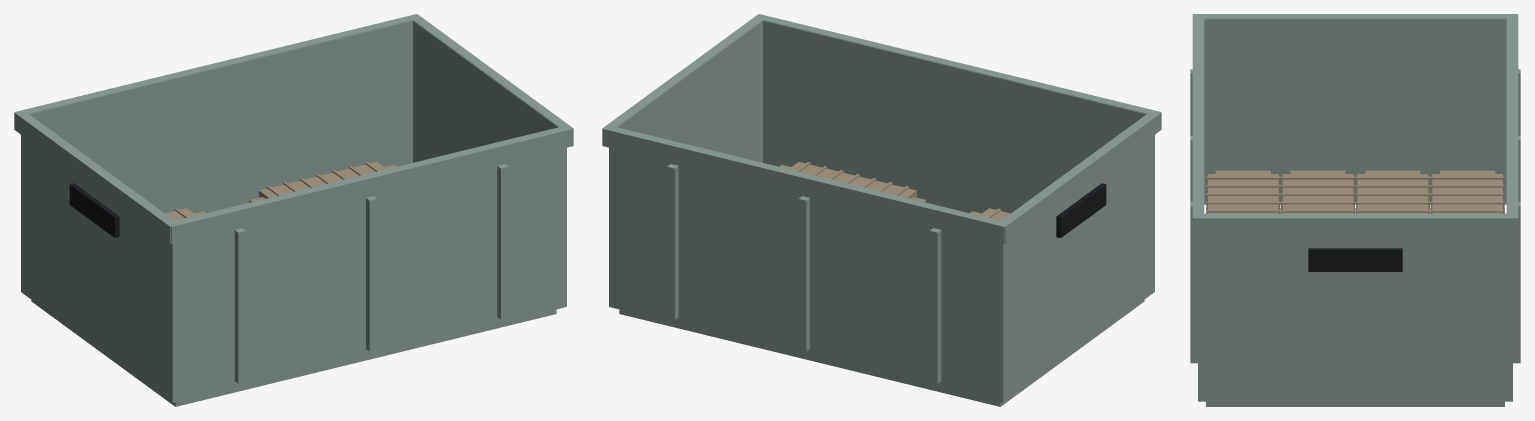
Rendered from tote_brazed.glb.
3 views of the same model, side by side, from view 1: azimuth 30°, elevation 25°; view 2: azimuth 150°, elevation 25°; view 3: azimuth 270°, elevation 25° (orthographic). The views are drawn at different scales.
Visible parts, largest first — view 1: Tote_600x400_tote_sage, Brazed_Core_brazed_stainless, Tote_600x400_black_paint; view 2: Tote_600x400_tote_sage, Brazed_Core_brazed_stainless, Tote_600x400_black_paint; view 3: Tote_600x400_tote_sage, Brazed_Core_brazed_stainless (×4), Tote_600x400_black_paint.
Boxes of the visible parts, x1,y1,x2,y2 form: Tote_600x400_tote_sage: (14, 14, 573, 406); Brazed_Core_brazed_stainless: (249, 162, 396, 202); Tote_600x400_black_paint: (69, 183, 119, 237); Tote_600x400_tote_sage: (602, 14, 1161, 406); Brazed_Core_brazed_stainless: (779, 162, 926, 202); Tote_600x400_black_paint: (1056, 183, 1106, 237); Tote_600x400_tote_sage: (1190, 14, 1520, 406); Brazed_Core_brazed_stainless (×4): (1206, 170, 1504, 213); Tote_600x400_black_paint: (1308, 248, 1402, 271).
Bounding box in the file's own units: 0.614 × 0.2725 × 0.42.
